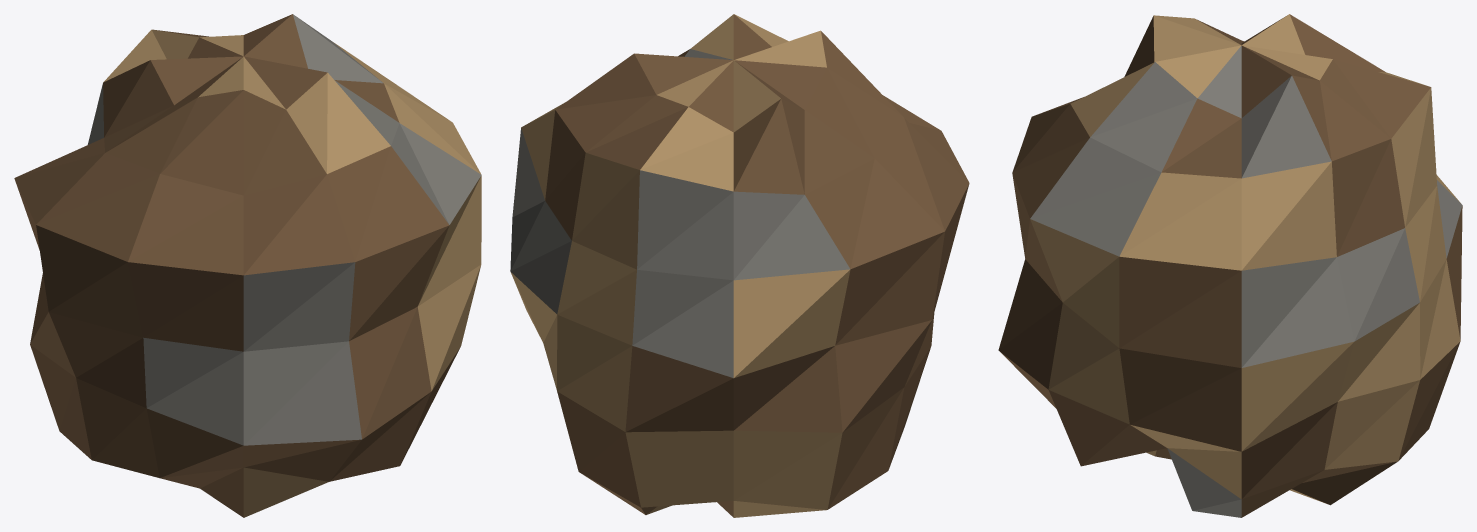
The model's file is earth_stone.glb.
3 views of the same model, side by side, from view 1: azimuth 30°, elevation 25°; view 2: azimuth 150°, elevation 25°; view 3: azimuth 270°, elevation 25° (orthographic). The views are drawn at different scales.
Parts seen in each view (by area): view 1: earth_stone; view 2: earth_stone; view 3: earth_stone.
Boxes of the visible parts, x1,y1,x2,y2 form: earth_stone: [14, 14, 481, 517]; earth_stone: [510, 14, 969, 517]; earth_stone: [998, 14, 1462, 517].
Bounding box in the file's own units: 0.7497 × 0.732 × 0.6891.
Materials: 1 (1 with a texture image).
